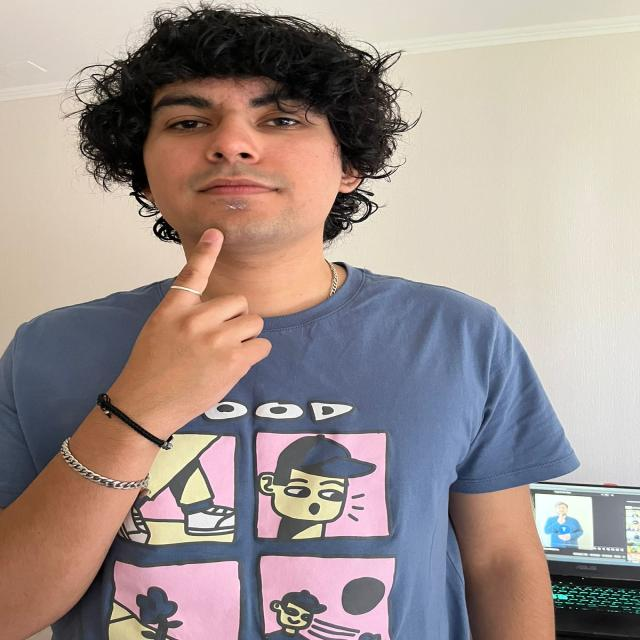T: (117, 221, 276, 439)
